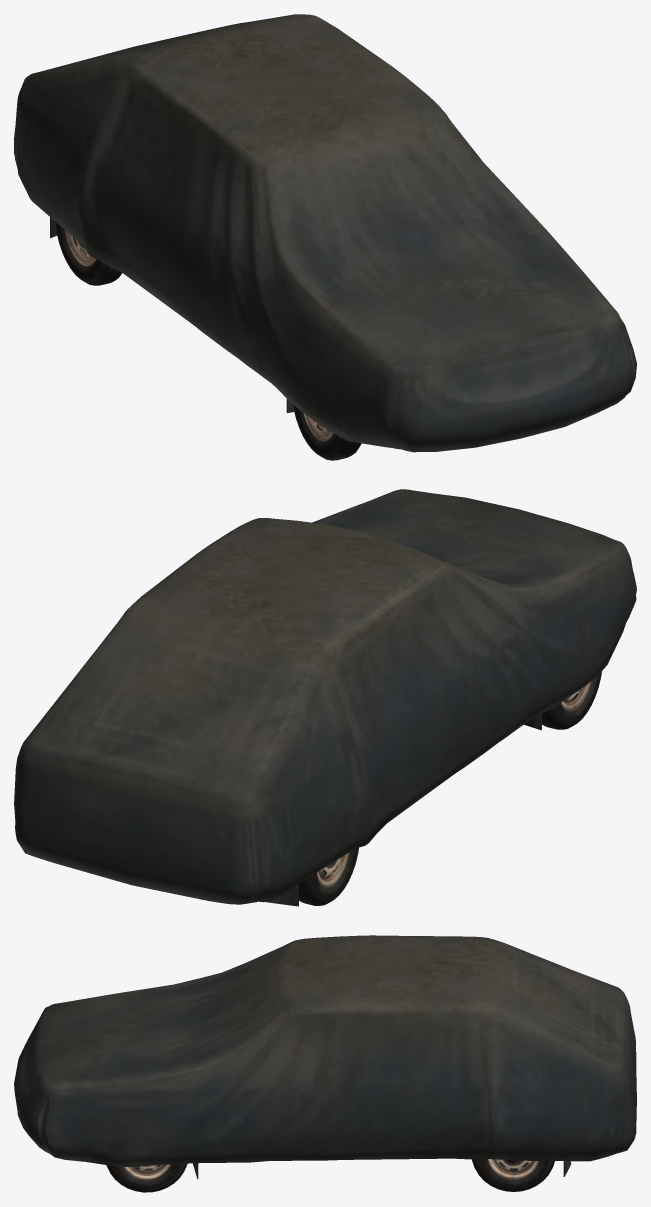
Rendered from car-covered.glb.
The picture shows the model from 3 angles, top to bottom: view 1: azimuth 30°, elevation 25°; view 2: azimuth 150°, elevation 25°; view 3: azimuth 270°, elevation 25°; orthographic projection. The views are drawn at different scales.
Parts seen in each view (by area): view 1: covered_car_wheel_01; view 2: covered_car_wheel_01; view 3: covered_car_wheel_01.
Part boxes in pixels (bbox=[...]): covered_car_wheel_01: bbox=[14, 14, 636, 460]; covered_car_wheel_01: bbox=[14, 489, 636, 906]; covered_car_wheel_01: bbox=[14, 935, 636, 1192].
Bounding box in the file's own units: 1.79 × 1.41 × 4.38.
Materials: 1 (1 with a texture image).
